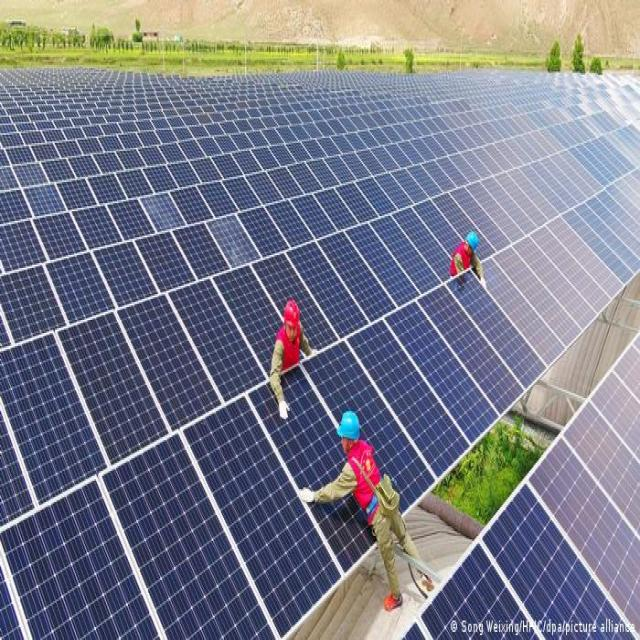clean-solar-panel: (0, 69, 640, 636), (400, 335, 640, 637)
